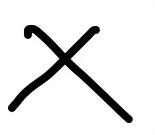mult: (9, 25, 133, 124)
